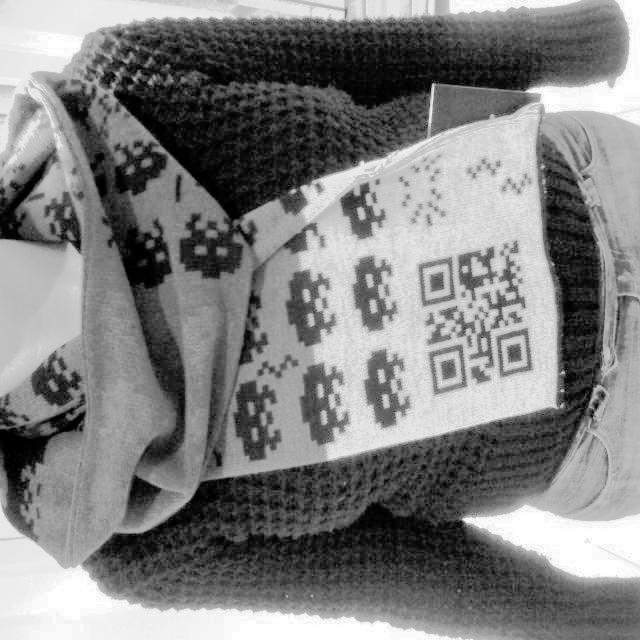qr_code: (417, 240, 533, 395)
